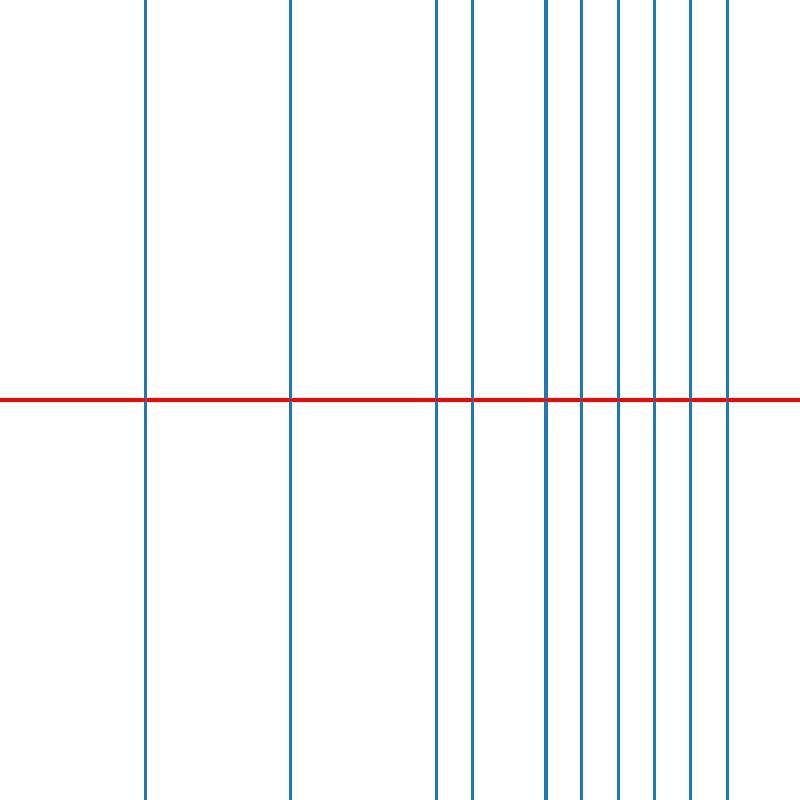root: (650, 396, 658, 404), (541, 396, 549, 404), (141, 396, 149, 404), (432, 396, 440, 404), (687, 396, 694, 404), (469, 396, 476, 404), (578, 396, 585, 404), (723, 396, 730, 404), (614, 396, 621, 404), (287, 396, 294, 404)
